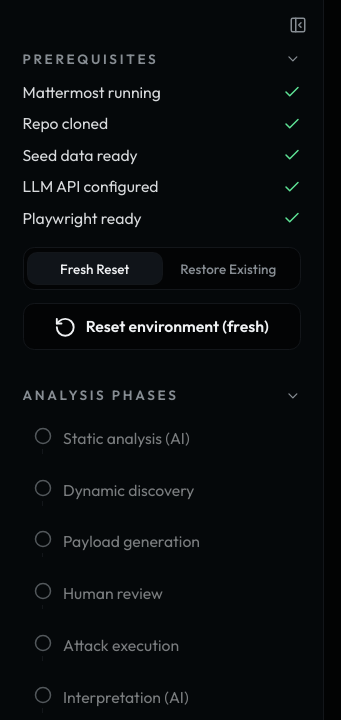
Test: Sidebar › collapses the Prerequisites section when its toggle is clicked
Expected: the text "Repo cloned" is shown, 22,112 -> 108,135
Click the button "PREREQUISITES".
click(90, 58)  # box 22,50 -> 300,68
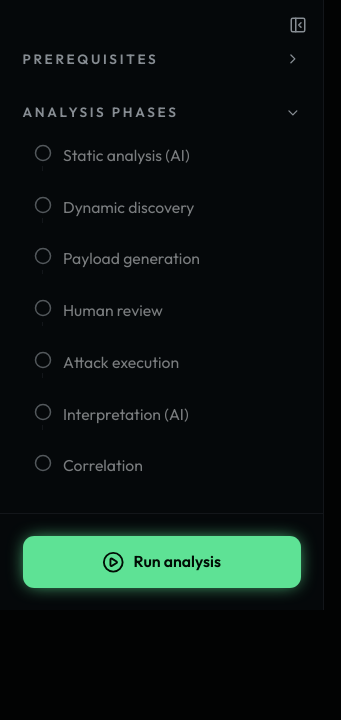
Expected: the text "Repo cloned" is gone
